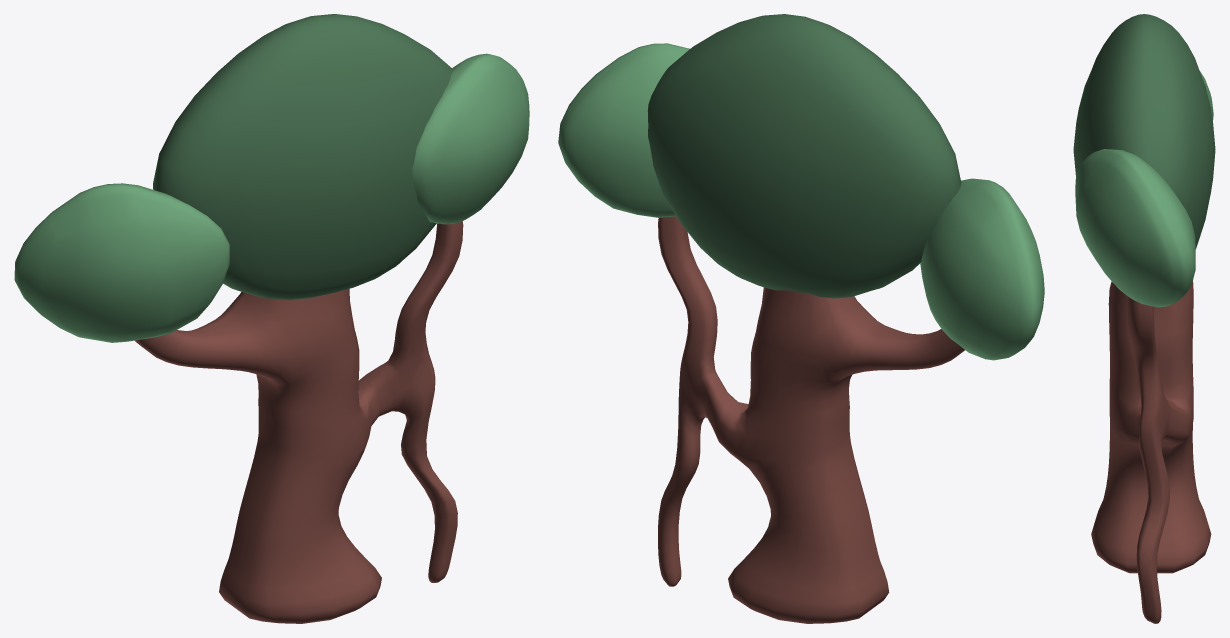
File: Small_Tree_3.fbx
3 renders of one model, left to right at view 1: azimuth 30°, elevation 25°; view 2: azimuth 150°, elevation 25°; view 3: azimuth 270°, elevation 25°, orthographic. The views are drawn at different scales.
Parts seen in each view (by area): view 1: Large1; view 2: Large1; view 3: Large1.
Part boxes in pixels (x1=…): Large1: x1=14, y1=14, x2=529, y2=623; Large1: x1=558, y1=14, x2=1044, y2=623; Large1: x1=1073, y1=14, x2=1215, y2=623.
Size of the model in its own units: 25.87 by 29.98 by 7.09.
